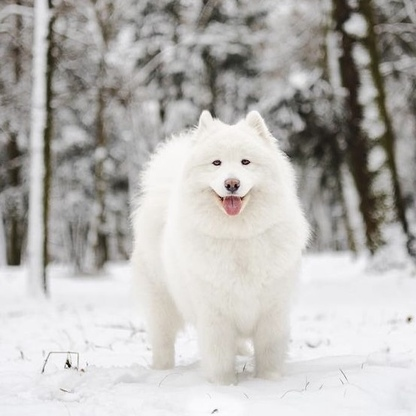samoyed: (121, 106, 324, 391)
